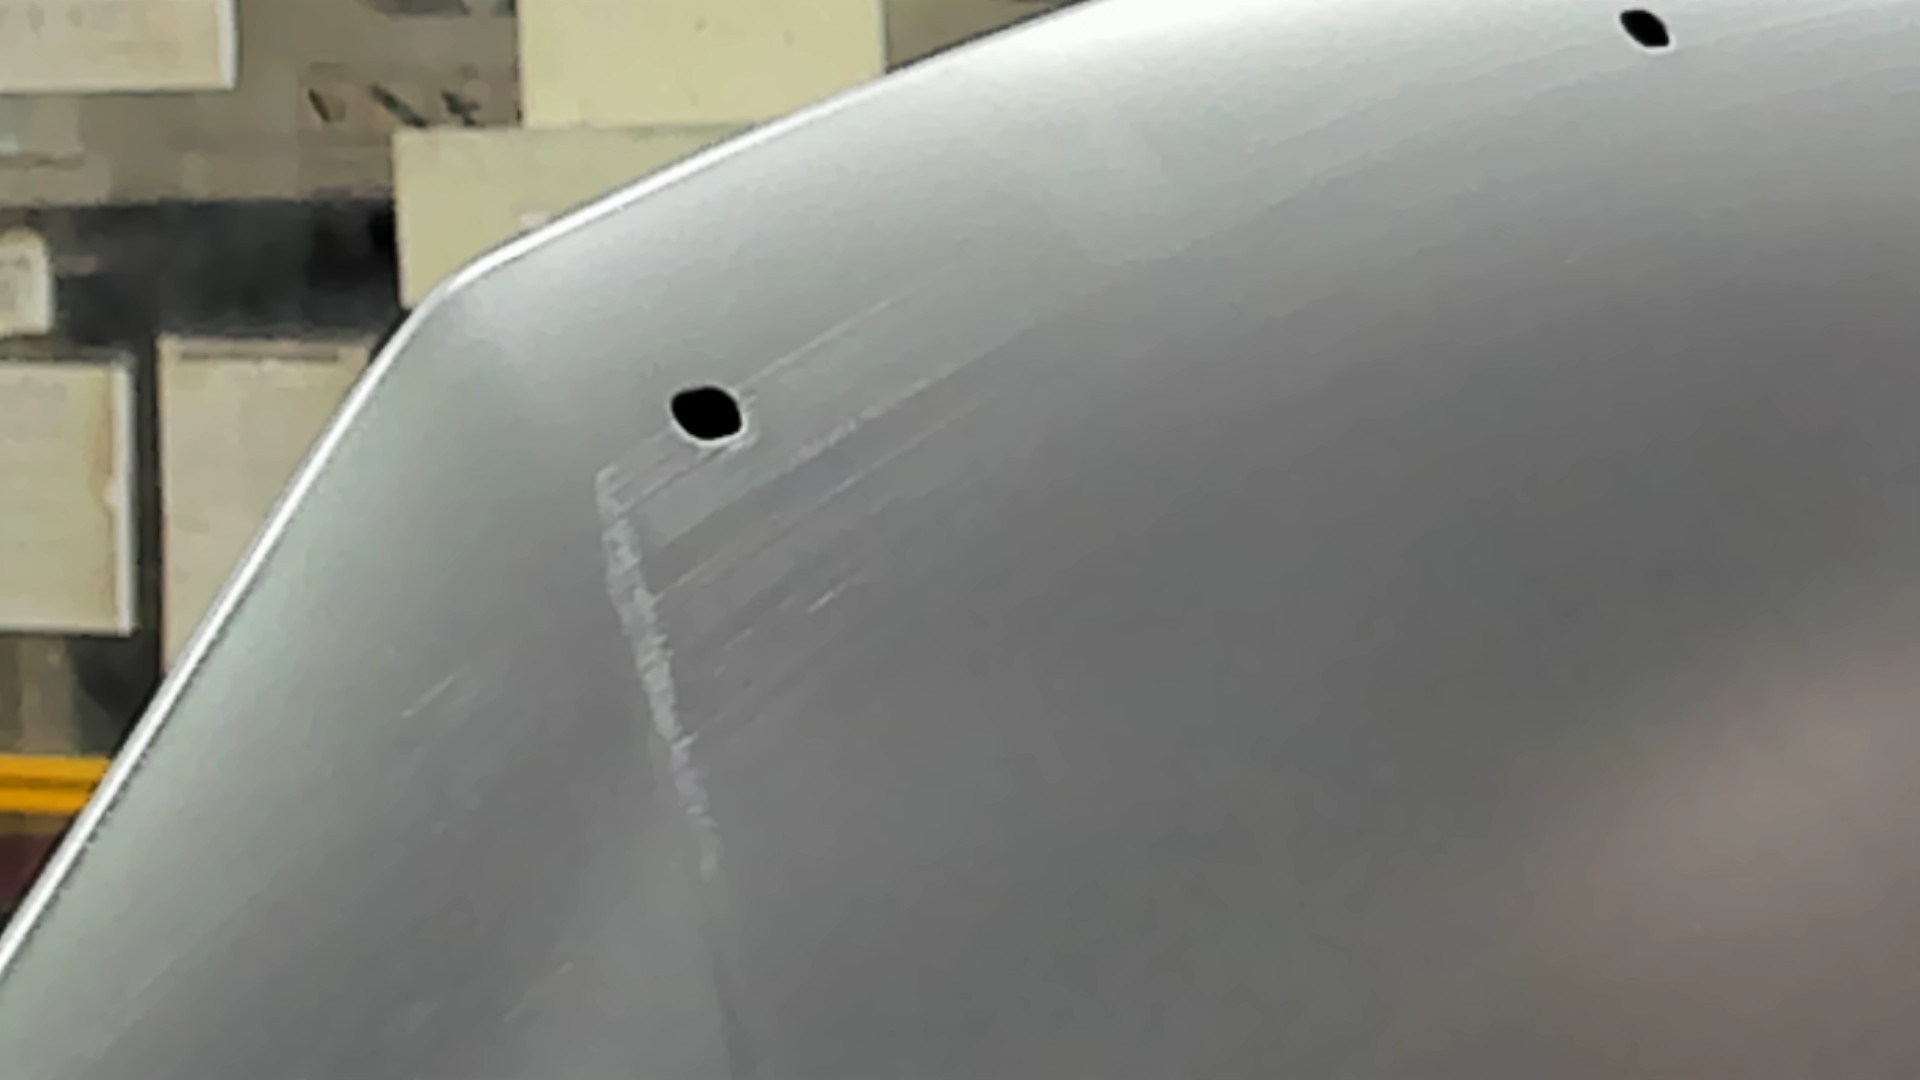amorfo: (666, 382, 752, 444), (1615, 1, 1677, 61)
